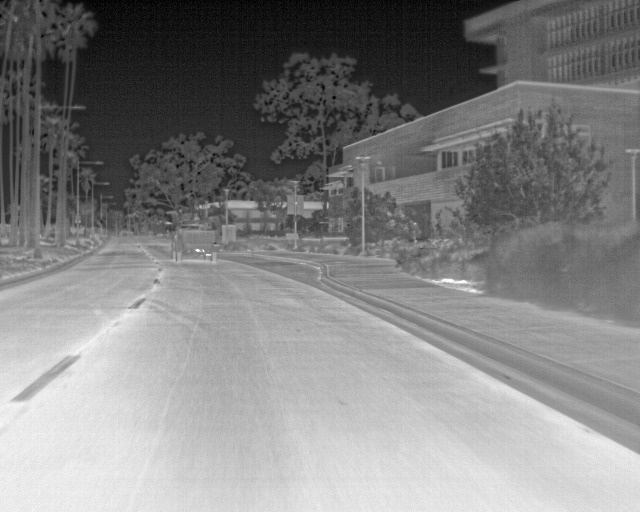vehicle: (171, 221, 220, 262)
